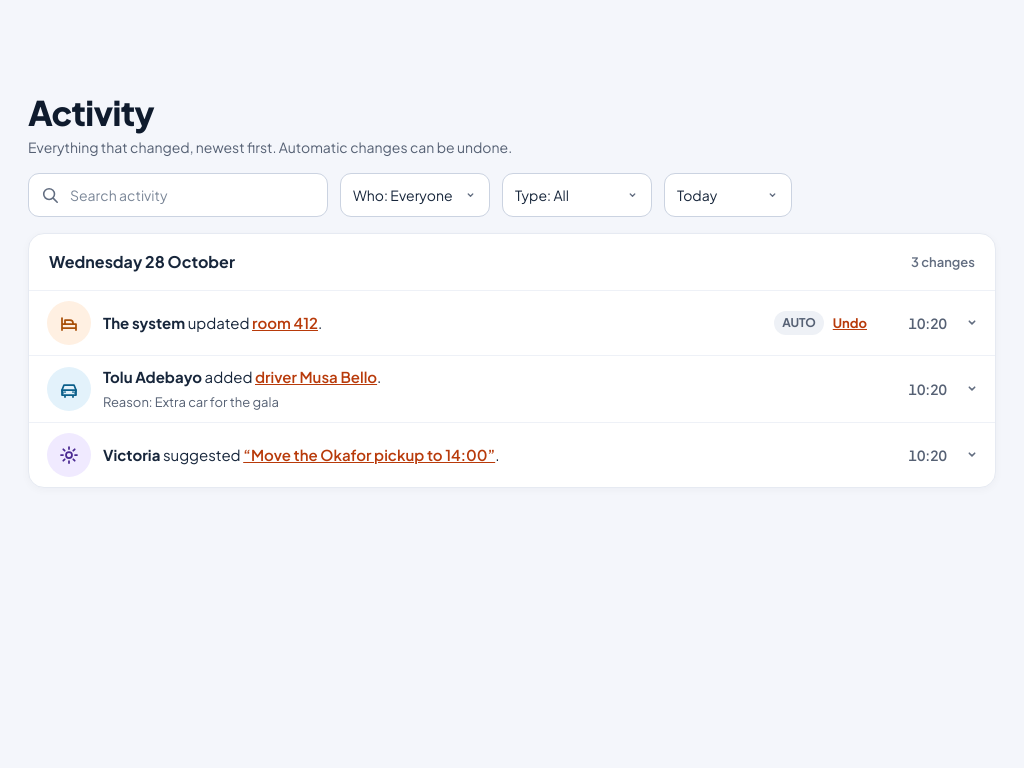
Test: ActivityScreen › reports an undo the server refuses
The image size is (1024, 768).
Check: the text "3 changes" is shown, box left=911, top=252, right=975, bottom=272
What coordinates should you click on to do the following:
click the button "Undo"
I would click on:
 (850, 323)
Its box is left=833, top=313, right=867, bottom=333.
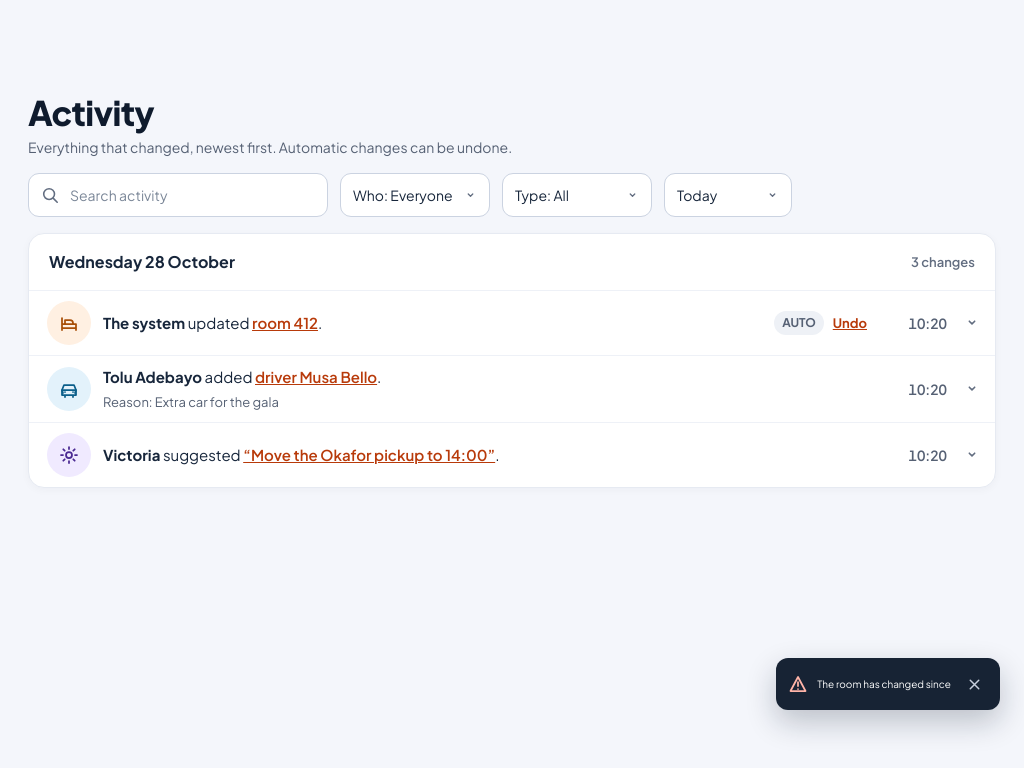
Check: the text "The room has changed since" is shown, box left=817, top=674, right=951, bottom=694
